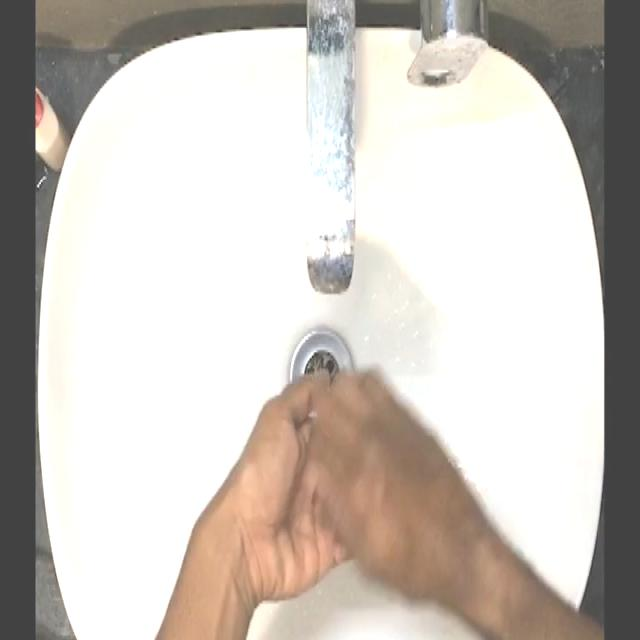step_4: (223, 353, 477, 595)
